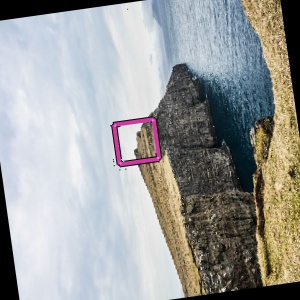square: (107, 116, 162, 167)
